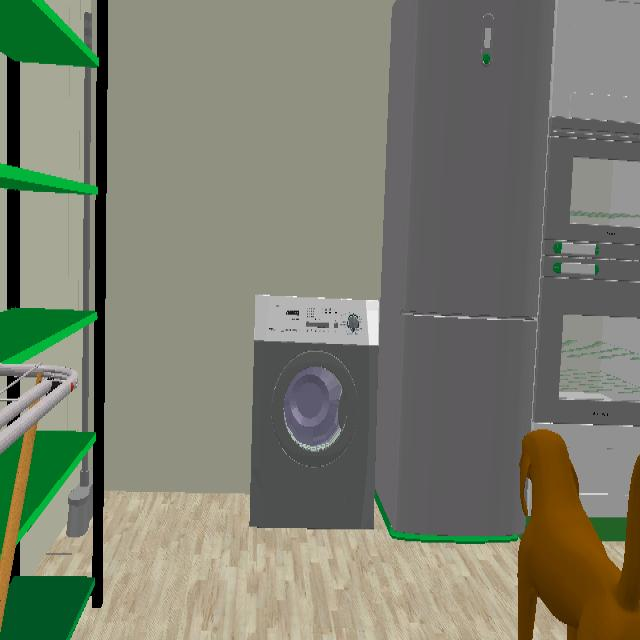fridge: (376, 0, 554, 534)
microwave: (544, 117, 640, 256)
oven: (534, 255, 640, 424)
